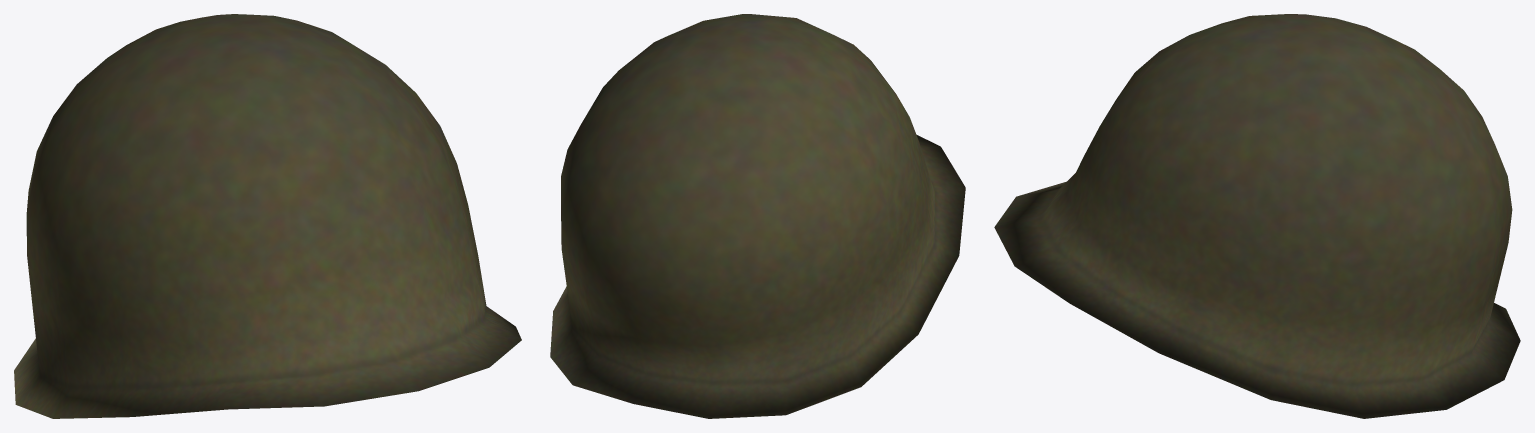
Rendered from M1HelmetStrapless.fbx.
The picture shows the model from 3 angles, left to right: view 1: azimuth 30°, elevation 25°; view 2: azimuth 150°, elevation 25°; view 3: azimuth 270°, elevation 25°; orthographic projection. The views are drawn at different scales.
Visible parts, largest first — view 1: Plane.001; view 2: Plane.001; view 3: Plane.001.
Boxes of the visible parts, x1,y1,x2,y2 form: Plane.001: [14, 14, 521, 418]; Plane.001: [550, 14, 965, 418]; Plane.001: [994, 14, 1520, 418].
Bounding box in the file's own units: 0.1572 × 0.1335 × 0.2008.
